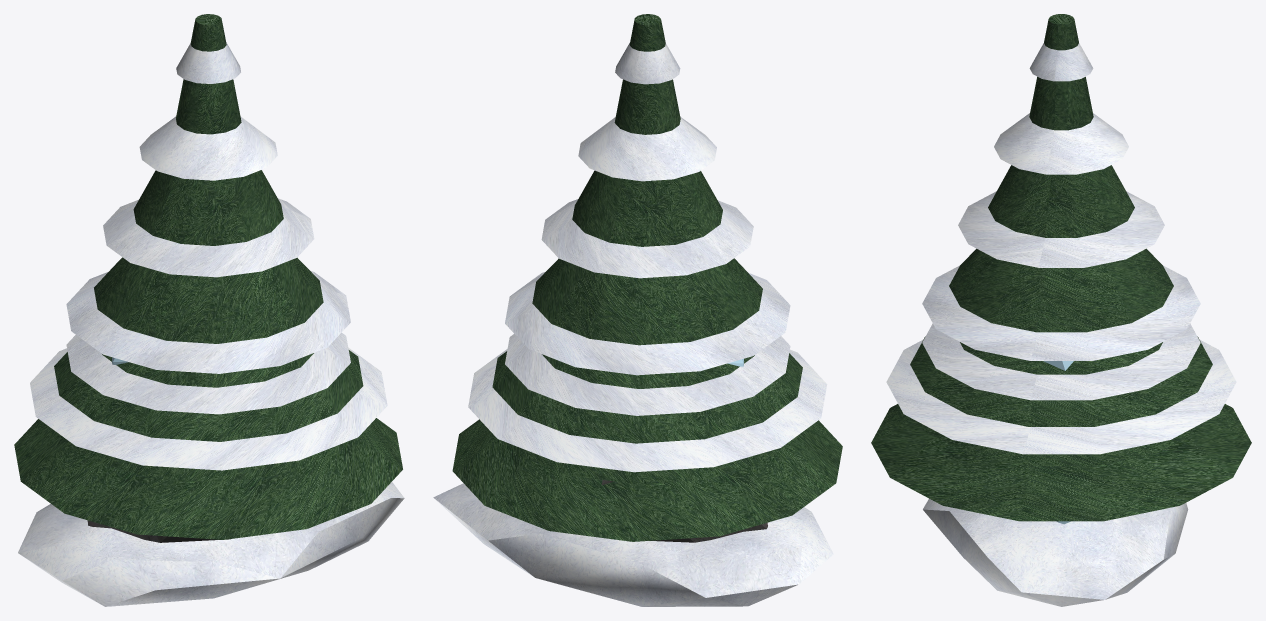
The model's file is Zima.glb.
3 views of the same model, side by side, from view 1: azimuth 30°, elevation 25°; view 2: azimuth 150°, elevation 25°; view 3: azimuth 270°, elevation 25° (orthographic). The views are drawn at different scales.
Visible parts, largest first — view 1: sosna_osniezona__pine_needles, sosna_osniezona__snow, zaspa__snow, sosna_osniezona_2__snow, sosna_osniezona_2__pine_needles, sople_skala__rock_dark; view 2: sosna_osniezona__pine_needles, sosna_osniezona__snow, zaspa__snow, sosna_osniezona_2__snow, sosna_osniezona_2__pine_needles; view 3: sosna_osniezona__pine_needles, sosna_osniezona__snow, zaspa__snow, sosna_osniezona_2__snow, sosna_osniezona_2__pine_needles.
Boxes of the visible parts, bbox=[...] form: sosna_osniezona__pine_needles: bbox=[14, 14, 402, 539]; sosna_osniezona__snow: bbox=[30, 42, 387, 470]; zaspa__snow: bbox=[18, 482, 404, 606]; sosna_osniezona_2__snow: bbox=[66, 332, 350, 414]; sosna_osniezona_2__pine_needles: bbox=[59, 434, 349, 482]; sople_skala__rock_dark: bbox=[87, 520, 230, 542]; sosna_osniezona__pine_needles: bbox=[452, 14, 842, 541]; sosna_osniezona__snow: bbox=[468, 43, 827, 472]; zaspa__snow: bbox=[433, 483, 833, 606]; sosna_osniezona_2__snow: bbox=[505, 334, 790, 415]; sosna_osniezona_2__pine_needles: bbox=[506, 435, 797, 484]; sosna_osniezona__pine_needles: bbox=[871, 14, 1251, 521]; sosna_osniezona__snow: bbox=[886, 43, 1236, 454]; zaspa__snow: bbox=[923, 498, 1188, 606]; sosna_osniezona_2__snow: bbox=[922, 323, 1200, 400]; sosna_osniezona_2__pine_needles: bbox=[921, 423, 1201, 465].
Size of the model in its own units: 9.36 by 13.85 by 8.8.
7 materials, 5 textured.
